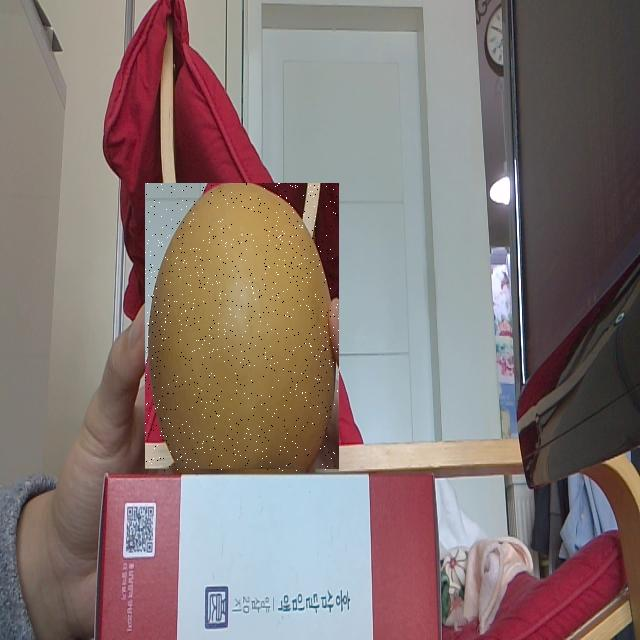pear: (145, 184, 339, 472)
